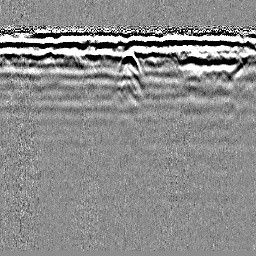cavity: (116, 49, 142, 74)
